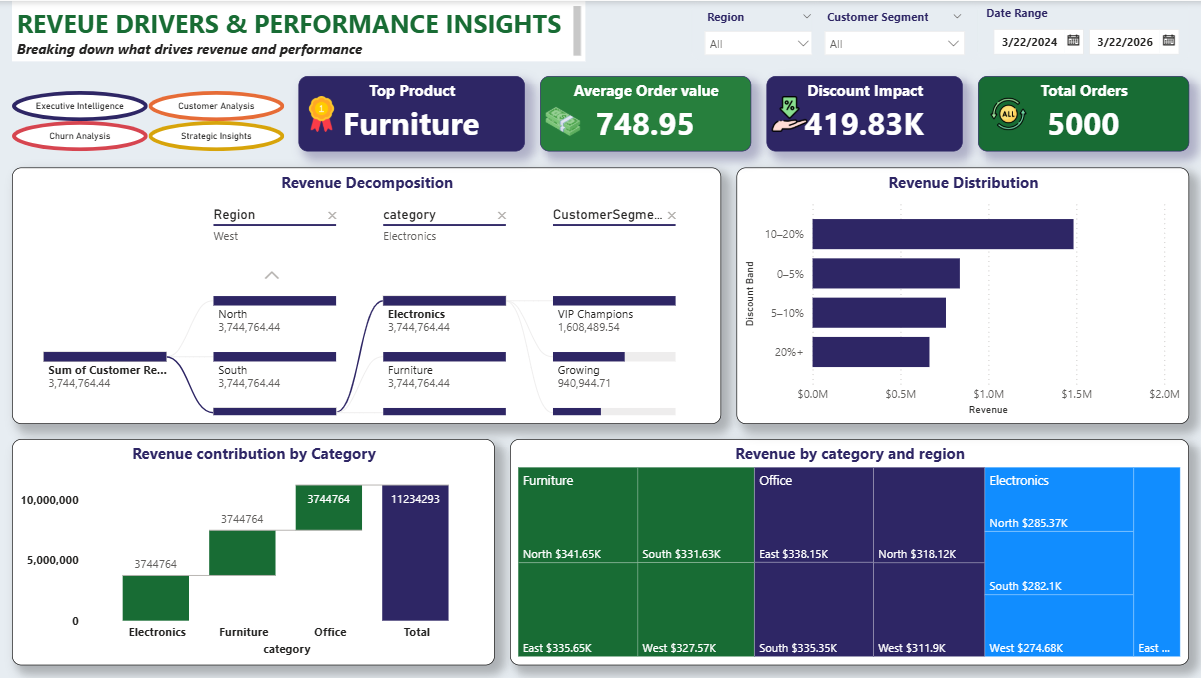

What the dashboard file says about the page in this screenshot:
{"tool":"powerbi","page":{"name":"Revenue Drivers","canvas":[1280,720],"ordinal":3},"visuals":[{"type":"decompositionTreeVisual","title":"Revenue Decomposition","fields":{"Analyze":["Sum(Customer Summary.Customer Revenue)"],"ExplainBy":["orders.region","products.category","Customer Summary.CustomerSegment"]},"box":[16,176,752,272],"z":0},{"type":"waterfallChart","title":"Revenue contribution by Category","fields":{"Category":["products.category"],"Y":["Sum(Customer Summary.Customer Revenue)"]},"box":[16,464,512,240],"z":1000},{"type":"treemap","fields":{"Group":["products.category"],"Details":["orders.region"],"Values":["orders.Revenue"]},"box":[544,464,720,240],"z":2000},{"type":"card","title":"Top Product","fields":{"Values":["Customer Summary.Top Category"]},"box":[320,80,240,80],"z":3000},{"type":"barChart","title":"Revenue Distribution","fields":{"Category":["orders.Discount Band"],"Y":["orders.Revenue"]},"box":[784,176,480,272],"z":4000},{"type":"slicer","fields":{"Values":["orders.region"]},"box":[736,0,144,64],"z":5000},{"type":"slicer","fields":{"Values":["customers (1).segment"]},"box":[864,0,176,64],"z":6000},{"type":"slicer","title":"Date Range","fields":{"Values":["orders.order_date"]},"box":[1040,0,224,64],"z":7000},{"type":"card","title":"Total Orders","fields":{"Values":["orders.Total Orders"]},"box":[1040,80,224,80],"z":8000},{"type":"card","title":"Discount Impact","fields":{"Values":["customers.Discount Impact"]},"box":[816,80,208,80],"z":9000},{"type":"card","title":"Average Order value","fields":{"Values":["customers.Avg Order Value"]},"box":[576,80,224,80],"z":10000},{"type":"textbox","box":[16,0,608,64],"z":11000},{"type":"actionButton","box":[16,96,144,32],"z":12000},{"type":"actionButton","box":[160,96,144,32],"z":13000},{"type":"actionButton","box":[16,128,144,32],"z":14000},{"type":"actionButton","box":[160,128,144,32],"z":15000},{"type":"image","box":[800,96,80,48],"z":16000},{"type":"image","box":[304,96,80,48],"z":17000},{"type":"image","box":[576,96,48,64],"z":18000},{"type":"image","box":[1040,96,64,48],"z":19000}]}

Visuals, with their boxes in screenshot pixels (x1, y1, x2, y2), scaled from the page's 1280x720 canvas onto the 1201x678 screenshot:
"Revenue Decomposition" decompositionTreeVisual: (left=15, top=166, right=721, bottom=422)
"Revenue contribution by Category" waterfallChart: (left=15, top=437, right=495, bottom=663)
treemap - products.category x orders.region: (left=510, top=437, right=1186, bottom=663)
"Top Product" card: (left=300, top=75, right=525, bottom=151)
"Revenue Distribution" barChart: (left=736, top=166, right=1186, bottom=422)
slicer - orders.region: (left=691, top=0, right=826, bottom=60)
slicer - customers (1).segment: (left=811, top=0, right=976, bottom=60)
"Date Range" slicer: (left=976, top=0, right=1186, bottom=60)
"Total Orders" card: (left=976, top=75, right=1186, bottom=151)
"Discount Impact" card: (left=766, top=75, right=961, bottom=151)
"Average Order value" card: (left=540, top=75, right=751, bottom=151)
textbox: (left=15, top=0, right=585, bottom=60)
actionButton: (left=15, top=90, right=150, bottom=121)
actionButton: (left=150, top=90, right=285, bottom=121)
actionButton: (left=15, top=121, right=150, bottom=151)
actionButton: (left=150, top=121, right=285, bottom=151)
image: (left=751, top=90, right=826, bottom=136)
image: (left=285, top=90, right=360, bottom=136)
image: (left=540, top=90, right=585, bottom=151)
image: (left=976, top=90, right=1036, bottom=136)
